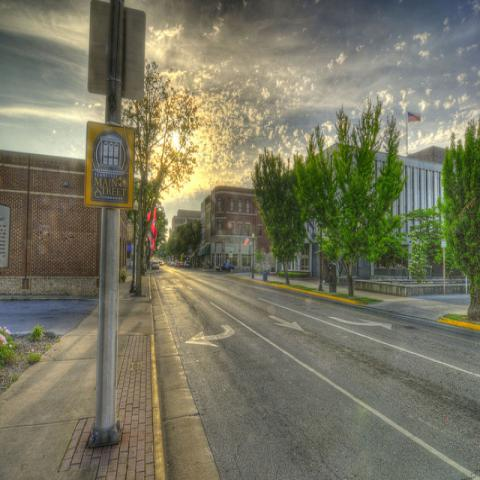car: (216, 263, 235, 272), (151, 261, 160, 270), (184, 260, 190, 267), (158, 260, 164, 266), (180, 260, 184, 267)
